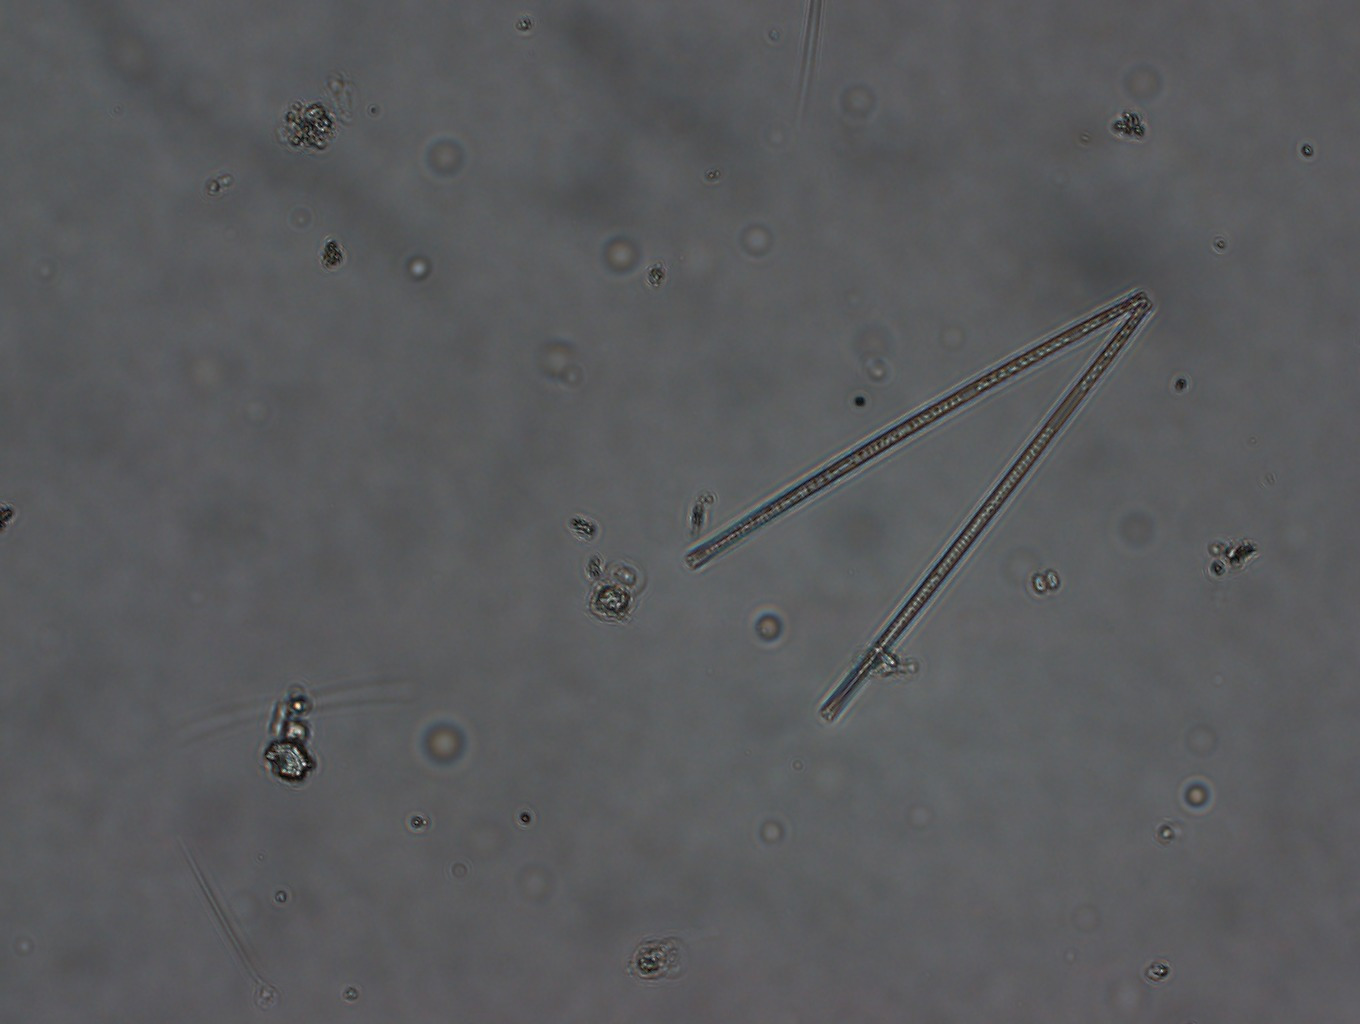thalassionema frauenfeldii: (674, 276, 1156, 730)
